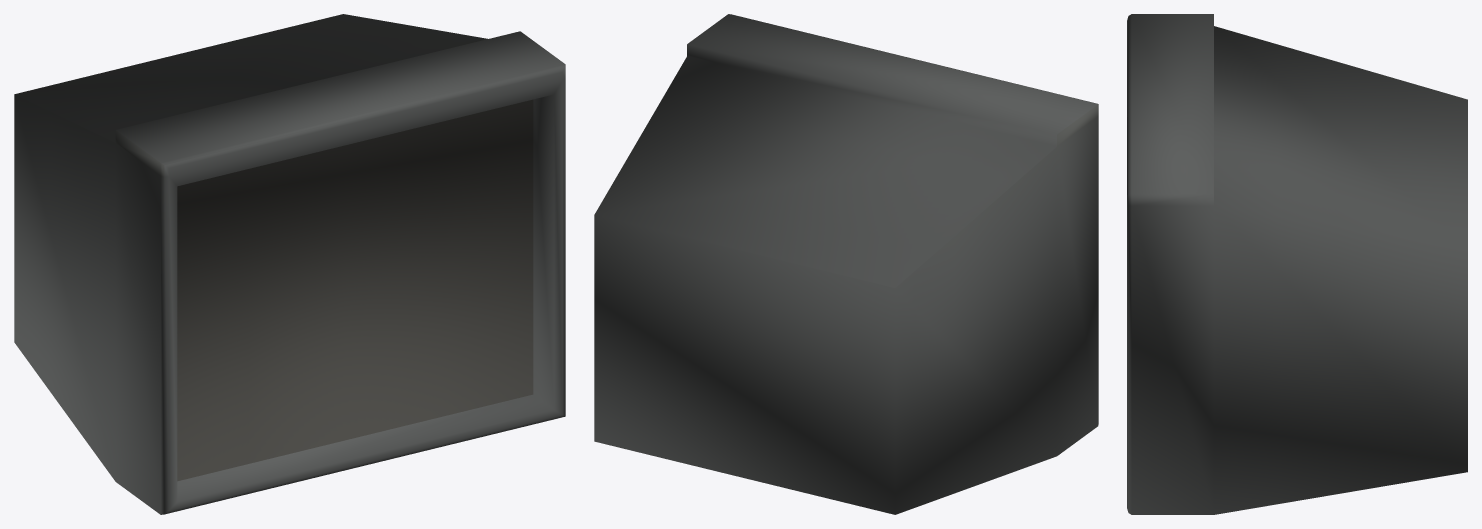
The model's file is 電視機.fbx.
The picture shows the model from 3 angles, left to right: view 1: azimuth 30°, elevation 25°; view 2: azimuth 150°, elevation 25°; view 3: azimuth 270°, elevation 25°; orthographic projection. The views are drawn at different scales.
Parts seen in each view (by area): view 1: Cube.033; view 2: Cube.033; view 3: Cube.033.
Boxes of the visible parts, x1,y1,x2,y2 form: Cube.033: [14, 14, 565, 514]; Cube.033: [594, 14, 1098, 514]; Cube.033: [1127, 14, 1467, 514].
Bounding box in the file's own units: 100 × 83.11 × 80.
